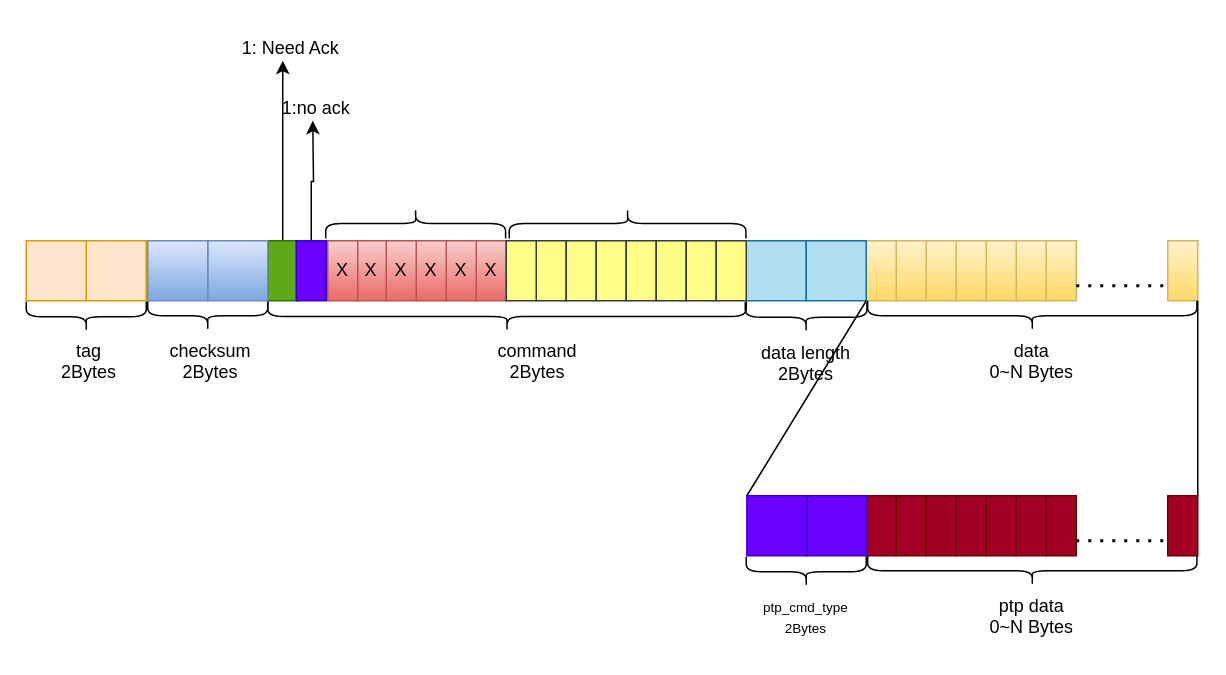
Some shapes in this 1226 by 675 pixel diagram are drawn without their labels. Here are the shapes that lost their labels. From the top down, the box of each, then its label:
(324, 207, 506, 238): type:2^6=64
(508, 207, 746, 238): command idx:2^8=256
